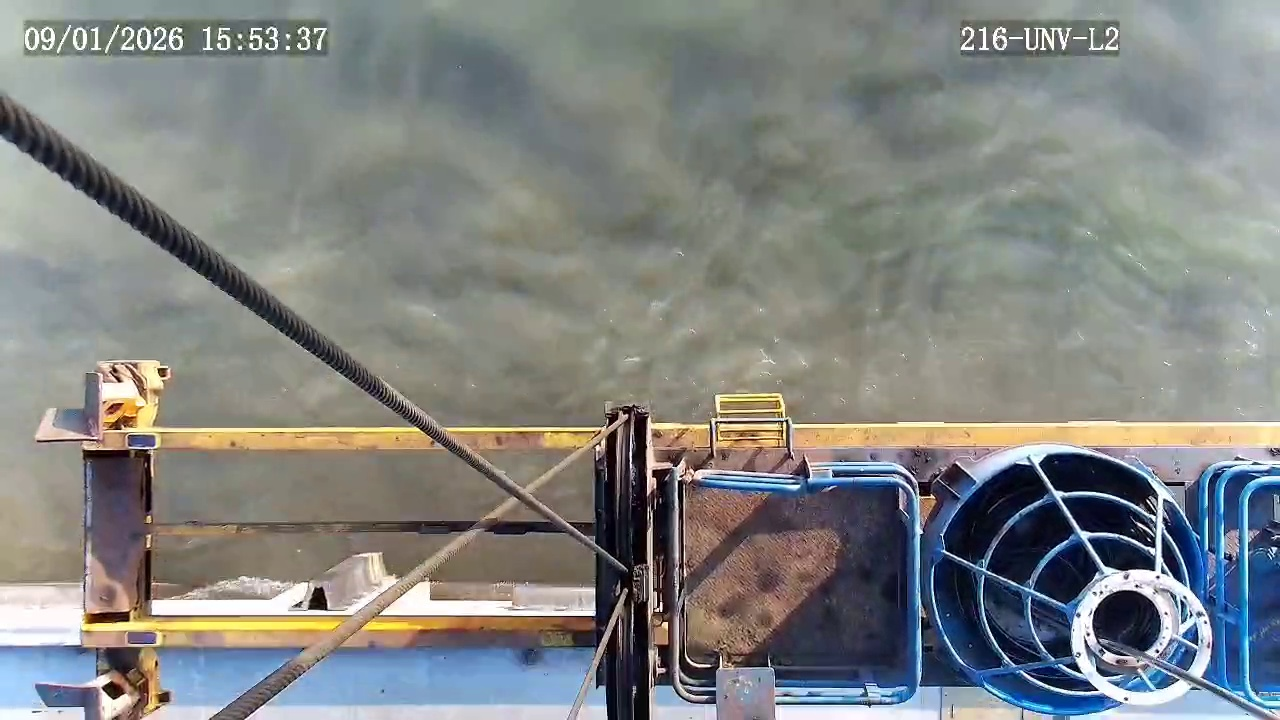left: (1070, 569, 1212, 705)
